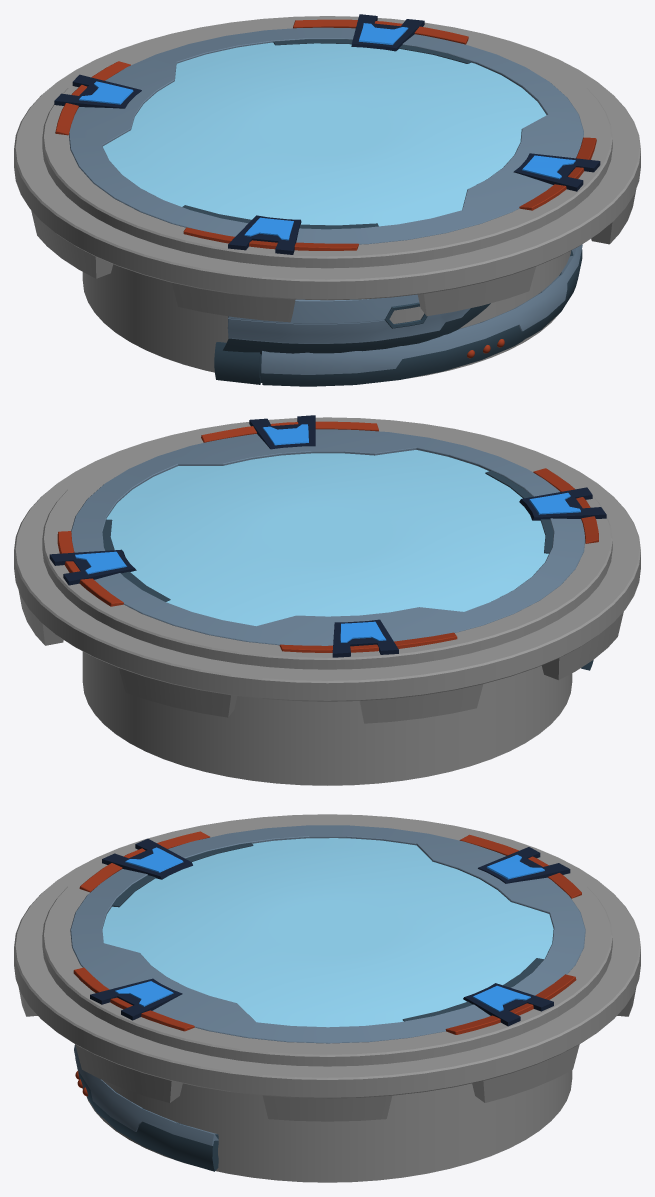
The model's file is ui_main_tai_mod_01.FBX.
The picture shows the model from 3 angles, top to bottom: view 1: azimuth 30°, elevation 25°; view 2: azimuth 150°, elevation 25°; view 3: azimuth 270°, elevation 25°; orthographic projection.
Parts seen in each view (by area): view 1: Cylinder101, Cylinder001, Cylinder100, Object002, Object001, Box327, Plane040, Object071, Cylinder088, Object066, Box328, Box329 (+2 smaller); view 2: Cylinder101, Cylinder001, Object001, Cylinder100, Object002, Box327, Box329, Box328, Tube011, Tube012; view 3: Cylinder101, Cylinder001, Object001, Cylinder100, Object002, Box327, Cylinder088, Object071, Box328, Box329, Tube011, Tube012.
Part boxes in pixels (x1,y1,x2,y2): Cylinder101: (103,42,546,226); Cylinder001: (14,16,640,281); Cylinder100: (69,27,583,244); Object002: (14,151,640,322); Object001: (82,250,571,378); Box327: (54,14,600,254); Plane040: (227,294,470,343); Object071: (261,244,582,374); Cylinder088: (214,249,582,386); Object066: (223,303,490,354); Box328: (183,227,358,250); Box329: (55,61,130,135); Cylinder101: (106,450,548,626); Cylinder001: (14,417,640,683); Object001: (82,651,572,785); Cylinder100: (71,429,585,645); Object002: (14,552,640,723); Box327: (49,415,606,657); Box329: (279,632,457,652); Box328: (533,468,598,543); Tube011: (485,470,553,553); Tube012: (102,519,170,601); Cylinder101: (102,838,553,1027); Cylinder001: (14,814,640,1079); Object001: (87,1070,572,1182); Cylinder100: (70,825,585,1043); Object002: (14,949,640,1121); Box327: (73,838,576,1034); Cylinder088: (75,1058,218,1171); Object071: (74,1044,218,1145); Box328: (79,831,209,892); Box329: (459,834,581,898); Tube011: (112,842,253,907); Tube012: (402,958,543,1021).
Bounding box in the file's own units: 567 × 151 × 567.
